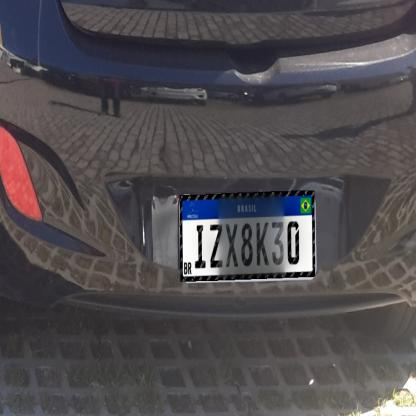PlacaM: (180, 190, 315, 282)
